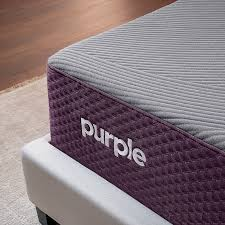bed-matress: (46, 1, 225, 225)
